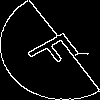F: (25, 25, 90, 75)
